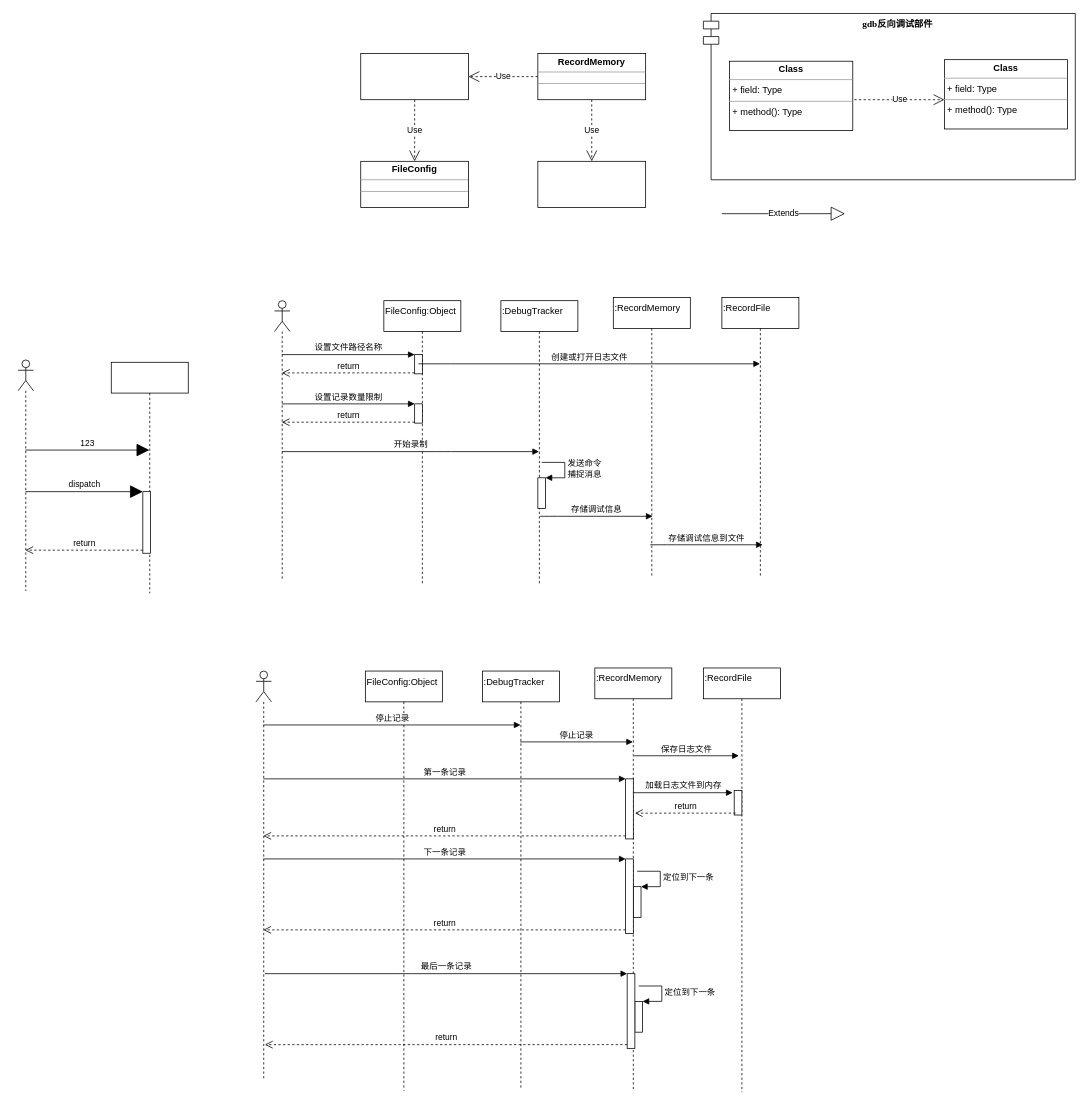
The diagram is 1089 pixels wide and 1106 high, and some of its shapes have lost their labels. The shapes that lost their labels are listed below. From the top down, each one's centre as x and y in pixels, then its label:
pixel 414 76: RecordFile
pixel 591 184: DebugTracker
pixel 149 477: :Object
